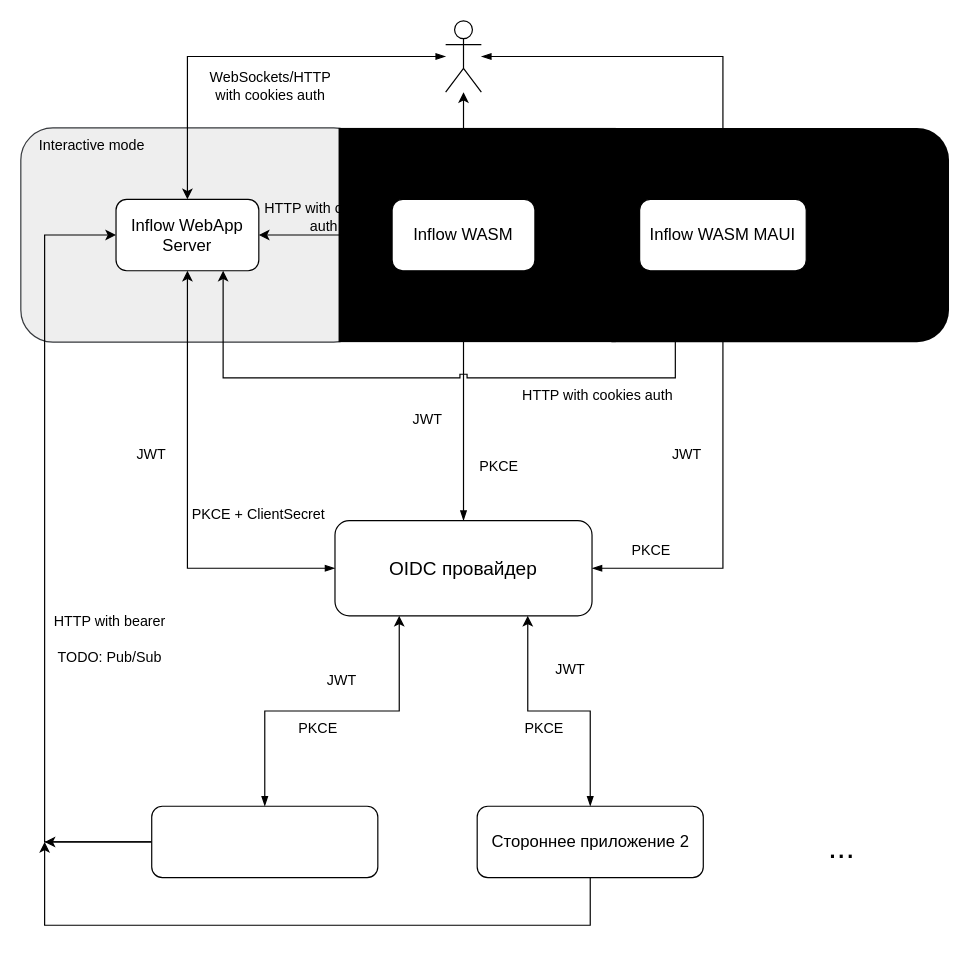
Image size: 970x956. Some labels were removed from this diagram. The centre of each missing label's shape, as x and y in pixels:
User: the point at 462,56
Стороннее приложение 1: the point at 264,841
